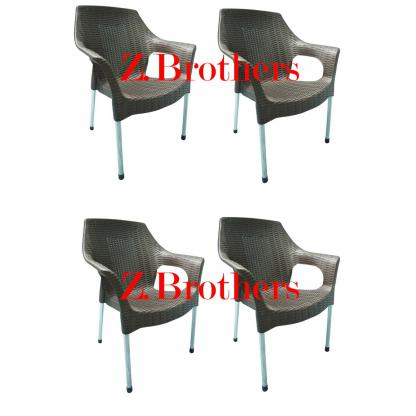chair: (210, 205, 358, 394), (72, 0, 200, 183)
